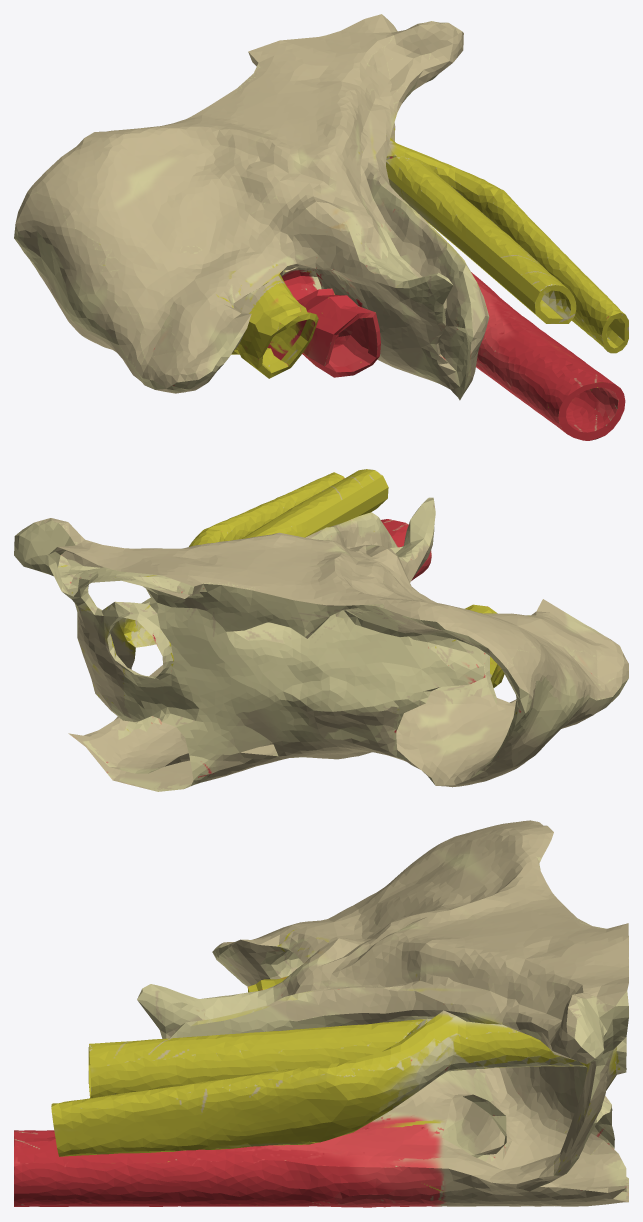
The model's file is vessel-3.glb.
3 renders of one model, top to bottom at view 1: azimuth 30°, elevation 25°; view 2: azimuth 150°, elevation 25°; view 3: azimuth 270°, elevation 25°, orthographic. The views are drawn at different scales.
Parts seen in each view (by area): view 1: untitled22; view 2: untitled22; view 3: untitled22.
Part boxes in pixels (bbox=[...]): untitled22: bbox=[14, 14, 628, 440]; untitled22: bbox=[14, 469, 628, 791]; untitled22: bbox=[14, 820, 628, 1207].
Size of the model in its own units: 1895 by 853 by 1874.
1 material, 1 textured.
